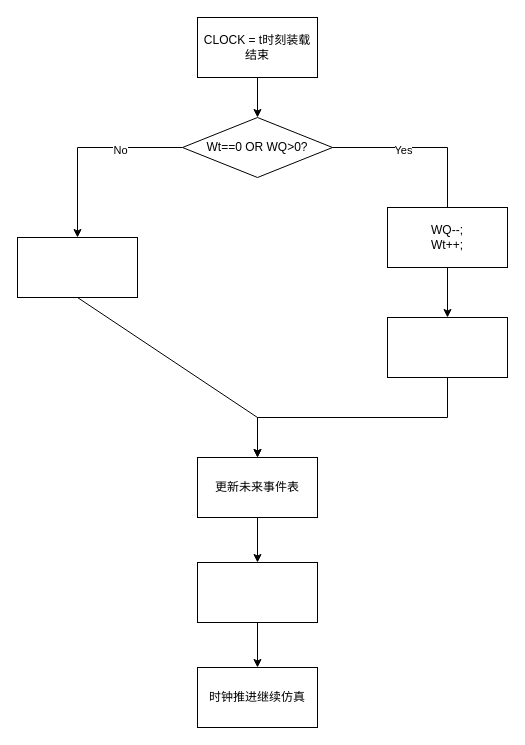
The diagram is 525 pixels wide and 745 high, and some of its shapes have lost their labels. The shapes that lost their labels are listed below. From the top down, each one's centre as x and y in pixels, then its label:
the point at 77,267: Pass
the point at 447,347: 生成服务时间t*，在t+t*时刻开始称重
the point at 257,592: 更新统计量
